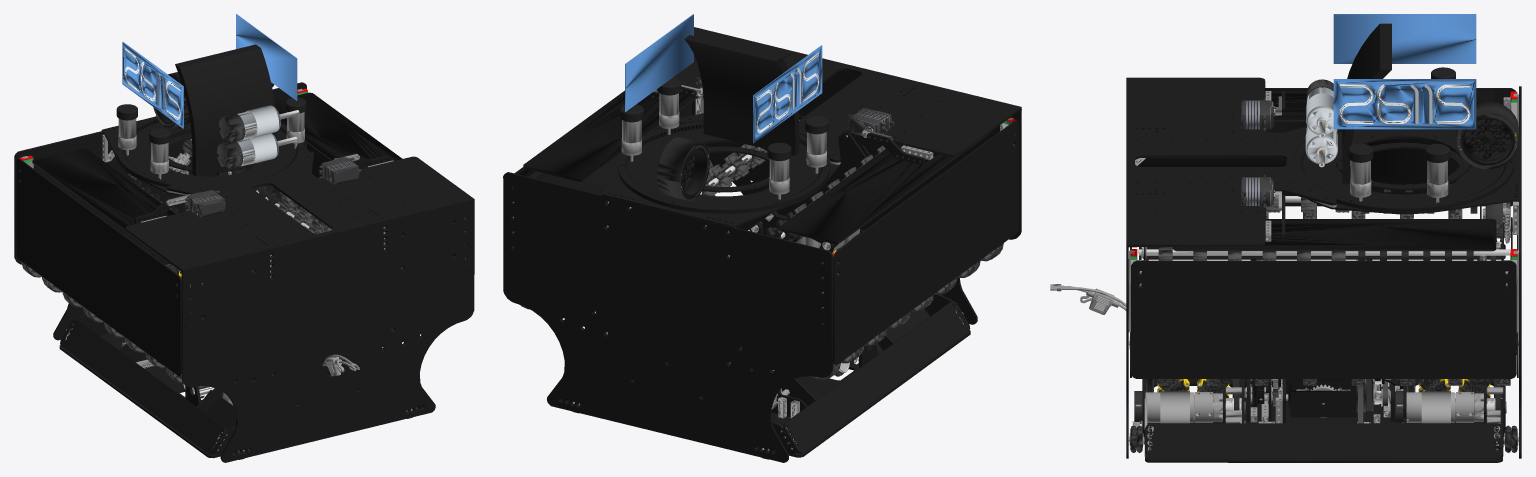
Rendered from robot.glb.
3 renders of one model, left to right at view 1: azimuth 30°, elevation 25°; view 2: azimuth 150°, elevation 25°; view 3: azimuth 270°, elevation 25°, orthographic. The views are drawn at different scales.
Visible parts, largest first — view 1: anim_dcc_47_shell, anim_dcc_53_top, anim_dcc_49_walls, anim_dcc_45_turret, anim_dcc_51_ramps, object 55, anim_dcc_46_ring, anim_dcc_52_bottom, anim_dcc_48_sidewheels, anim_dcc_43_armR, anim_dcc_50_plates, anim_dcc_44_cplr; view 2: anim_dcc_47_shell, anim_dcc_53_top, anim_dcc_49_walls, anim_dcc_45_turret, anim_dcc_51_ramps, anim_dcc_46_ring, object 55, anim_dcc_48_sidewheels, anim_dcc_52_bottom, anim_dcc_44_cplr, anim_dcc_43_armR, anim_dcc_42_armL (+1 smaller); view 3: anim_dcc_49_walls, anim_dcc_53_top, anim_dcc_45_turret, anim_dcc_51_ramps, object 55, anim_dcc_52_bottom, anim_dcc_43_armR, anim_dcc_24_car2, anim_dcc_46_ring, anim_dcc_44_cplr, anim_dcc_47_shell, anim_dcc_48_sidewheels (+2 smaller).
Part boxes in pixels (x1=…): anim_dcc_47_shell: x1=14, y1=82, x2=474, y2=462; anim_dcc_53_top: x1=32, y1=92, x2=474, y2=277; anim_dcc_49_walls: x1=16, y1=88, x2=465, y2=376; anim_dcc_45_turret: x1=116, y1=14, x2=306, y2=179; anim_dcc_51_ramps: x1=60, y1=319, x2=226, y2=454; object 55: x1=65, y1=256, x2=412, y2=455; anim_dcc_46_ring: x1=116, y1=116, x2=304, y2=187; anim_dcc_52_bottom: x1=59, y1=332, x2=422, y2=458; anim_dcc_48_sidewheels: x1=21, y1=186, x2=402, y2=382; anim_dcc_43_armR: x1=168, y1=156, x2=324, y2=233; anim_dcc_50_plates: x1=108, y1=255, x2=359, y2=413; anim_dcc_44_cplr: x1=128, y1=139, x2=253, y2=305; anim_dcc_47_shell: x1=503, y1=70, x2=1021, y2=462; anim_dcc_53_top: x1=523, y1=27, x2=1021, y2=256; anim_dcc_49_walls: x1=513, y1=77, x2=1019, y2=365; anim_dcc_45_turret: x1=619, y1=14, x2=828, y2=200; anim_dcc_51_ramps: x1=782, y1=301, x2=970, y2=453; anim_dcc_46_ring: x1=617, y1=121, x2=830, y2=213; object 55: x1=572, y1=241, x2=963, y2=454; anim_dcc_48_sidewheels: x1=520, y1=146, x2=1003, y2=380; anim_dcc_52_bottom: x1=562, y1=330, x2=970, y2=457; anim_dcc_44_cplr: x1=736, y1=133, x2=869, y2=250; anim_dcc_43_armR: x1=700, y1=115, x2=855, y2=196; anim_dcc_42_armL: x1=765, y1=134, x2=885, y2=241; anim_dcc_49_walls: x1=1128, y1=88, x2=1518, y2=378; anim_dcc_53_top: x1=1126, y1=77, x2=1521, y2=251; anim_dcc_45_turret: x1=1305, y1=14, x2=1518, y2=203; anim_dcc_51_ramps: x1=1144, y1=423, x2=1502, y2=458; object 55: x1=1128, y1=337, x2=1518, y2=456; anim_dcc_52_bottom: x1=1143, y1=379, x2=1504, y2=462; anim_dcc_43_armR: x1=1138, y1=207, x2=1512, y2=260; anim_dcc_24_car2: x1=1288, y1=379, x2=1373, y2=417; anim_dcc_46_ring: x1=1293, y1=129, x2=1514, y2=212; anim_dcc_44_cplr: x1=1139, y1=202, x2=1512, y2=260; anim_dcc_47_shell: x1=1126, y1=86, x2=1521, y2=458; anim_dcc_48_sidewheels: x1=1130, y1=202, x2=1518, y2=385.
Bounding box in the file's own units: 0.4572 × 0.4571 × 0.545.
